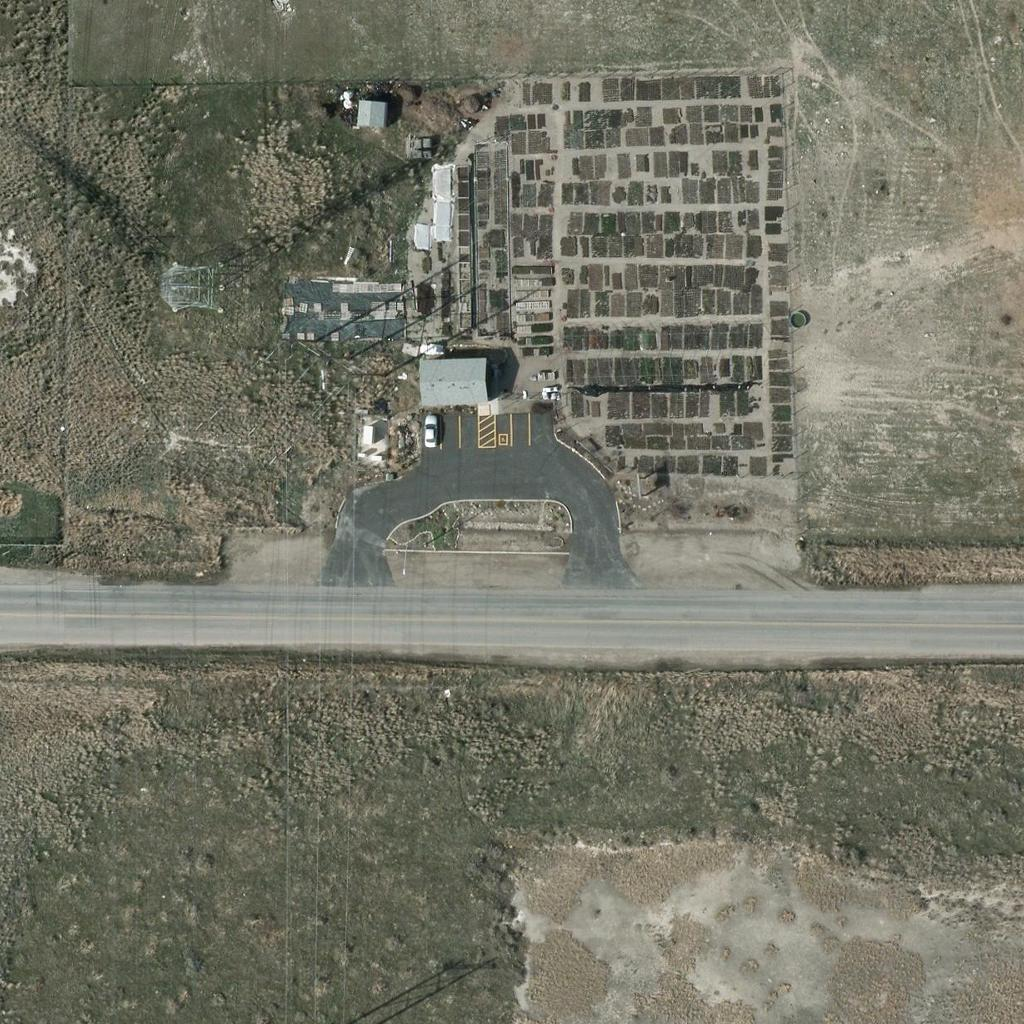car: (411, 415, 445, 449)
